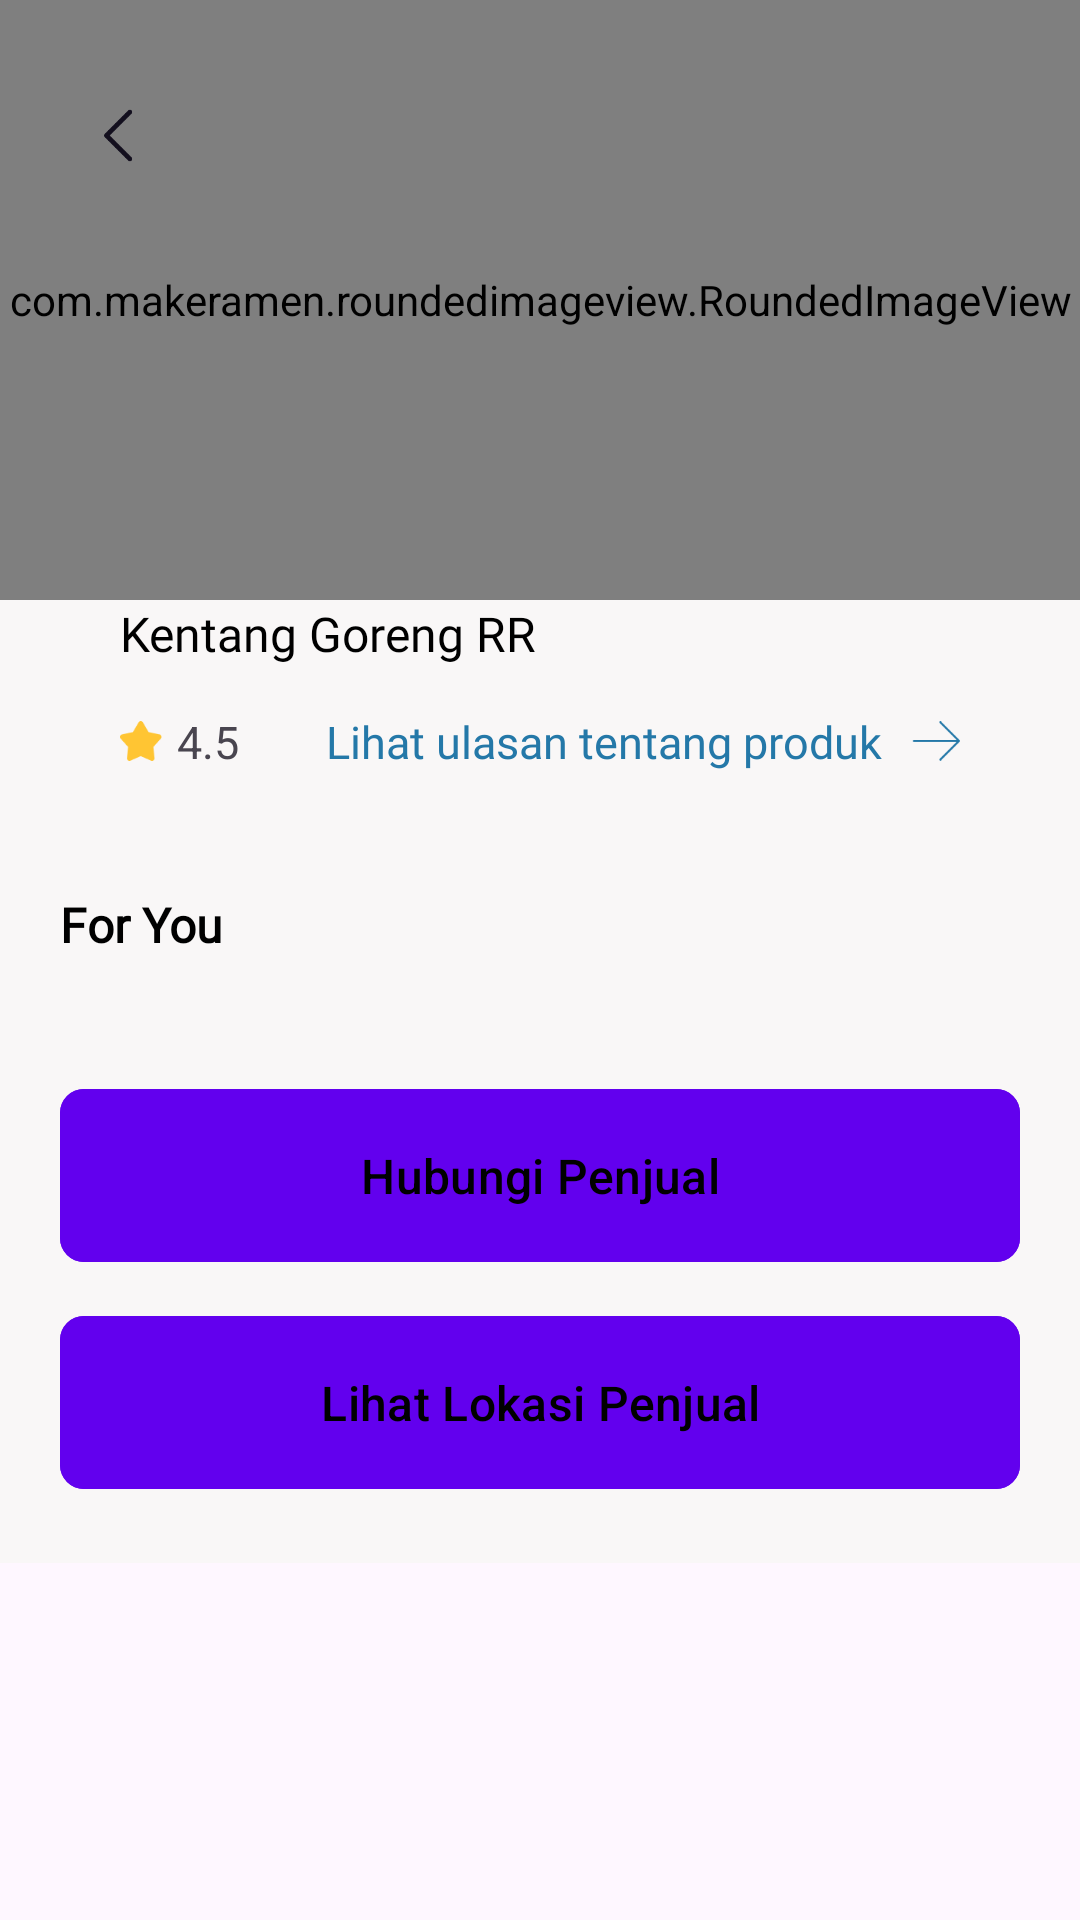

Icons on this 1080*1920 Android screen, each with the point to tap as point (x, y):
back left: point (118, 135)
back right: point (936, 741)
star kecil: point (141, 741)
